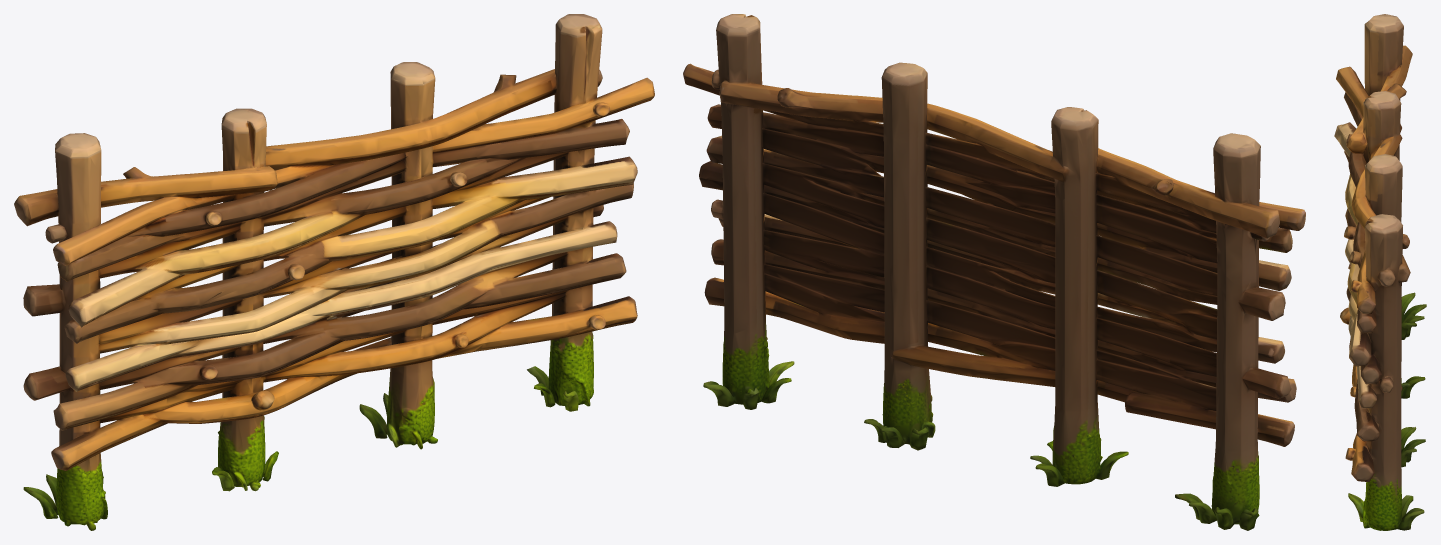
File: wattle-fence.glb
3 views of the same model, side by side, from view 1: azimuth 30°, elevation 25°; view 2: azimuth 150°, elevation 25°; view 3: azimuth 270°, elevation 25° (orthographic). The views are drawn at different scales.
Visible parts, largest first — view 1: node_0; view 2: node_0; view 3: node_0.
Boxes of the visible parts, left/top/right/bottom form: node_0: left=14, top=14, right=654, bottom=530; node_0: left=683, top=14, right=1305, bottom=530; node_0: left=1334, top=14, right=1426, bottom=530.
Size of the model in its own units: 1.1 by 0.6509 by 0.1759.
1 material, 1 textured.
